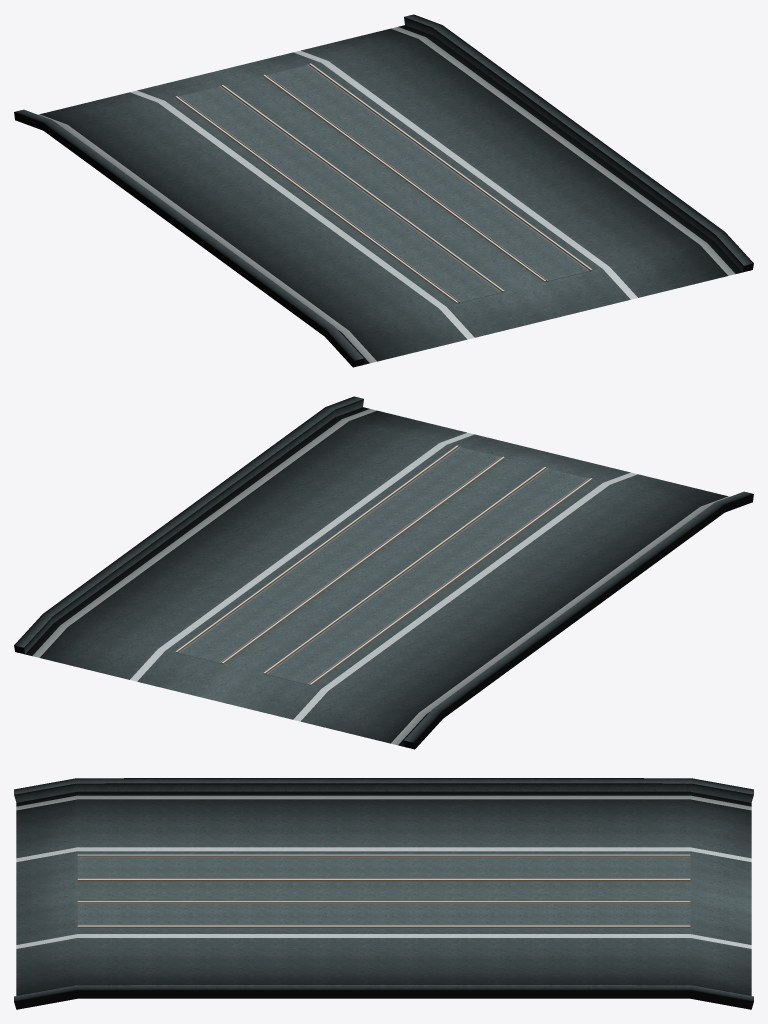
File: K_RO_2RAIL50.glb
3 renders of one model, top to bottom at view 1: azimuth 30°, elevation 25°; view 2: azimuth 150°, elevation 25°; view 3: azimuth 270°, elevation 25°, orthographic. The views are drawn at different scales.
Visible parts, largest first — view 1: obj4; view 2: obj4; view 3: obj4.
Boxes of the visible parts, x1=… form: obj4: x1=14, y1=14, x2=753, y2=367; obj4: x1=14, y1=396, x2=753, y2=749; obj4: x1=14, y1=778, x2=753, y2=1009.
Size of the model in its own units: 41 by 1.75 by 60.39.
3 materials, 3 textured.
